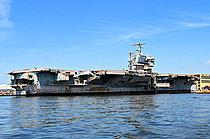MIL_Ship: (6, 41, 199, 94)
